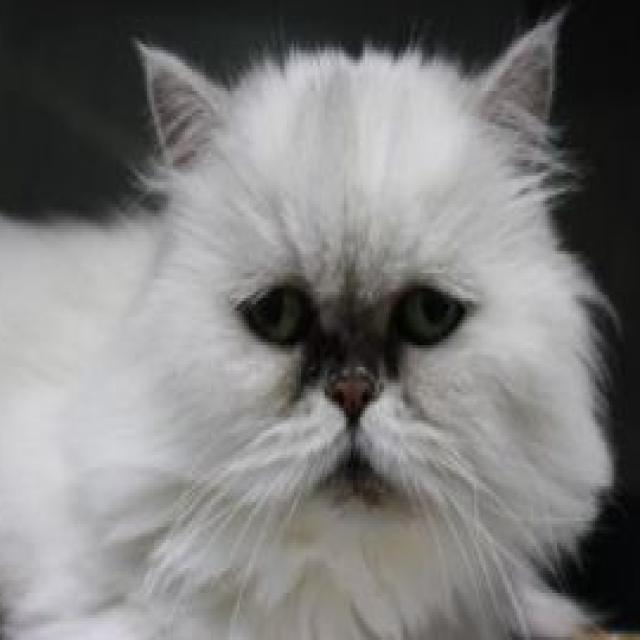Persian: (0, 6, 612, 640)
